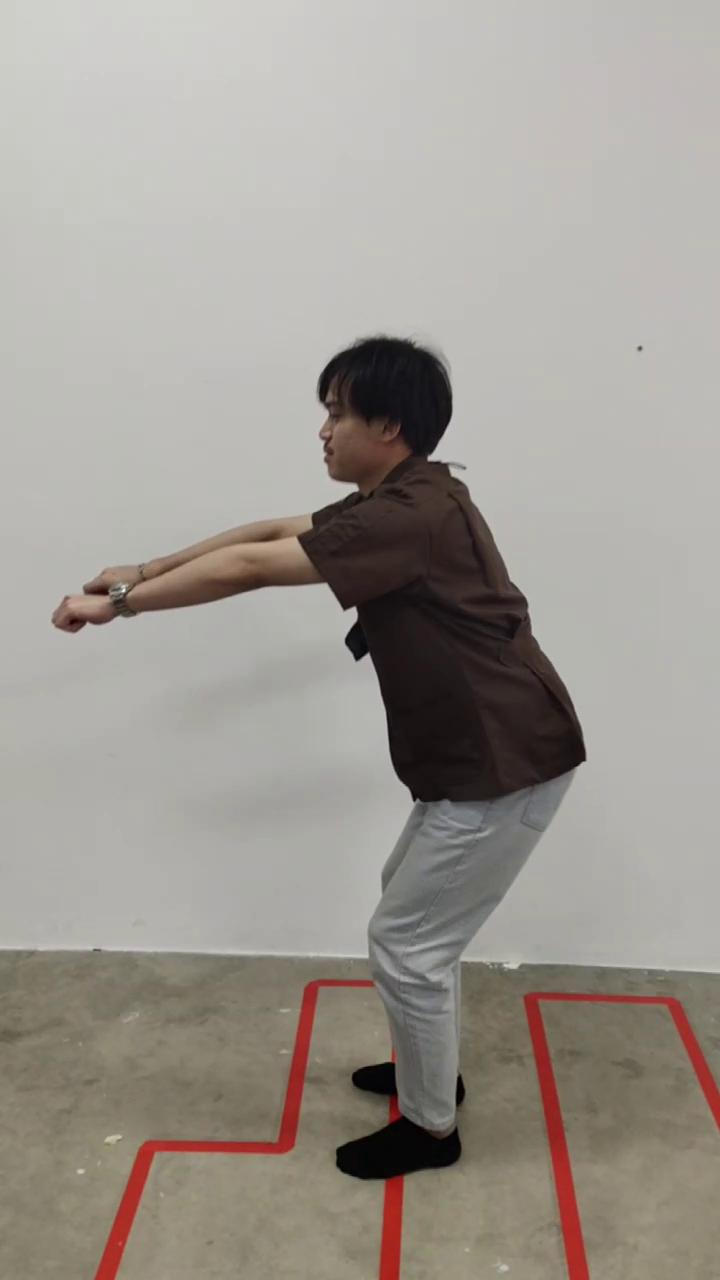squat up: (52, 335, 585, 1180)
